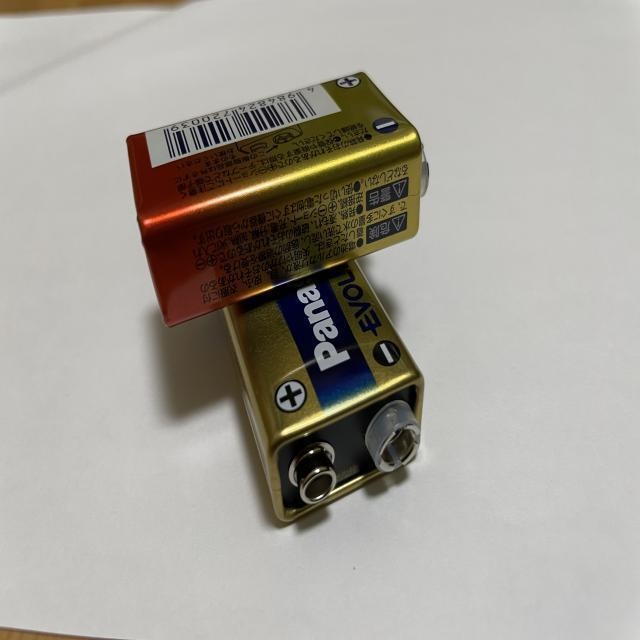9V: (125, 72, 430, 327), (219, 260, 426, 526)
